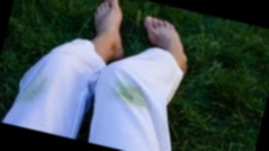earth: (119, 84, 146, 104)
